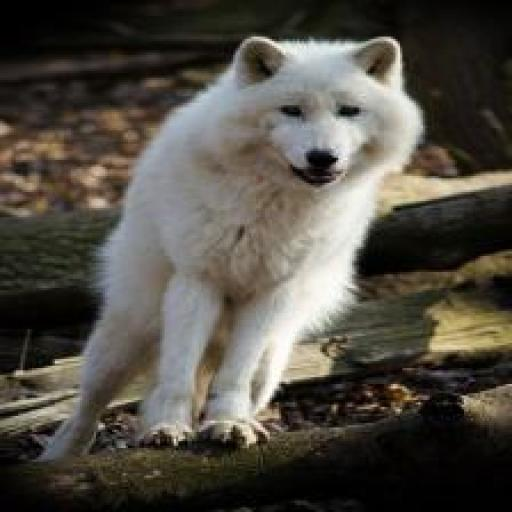wolf: (46, 32, 435, 461)
